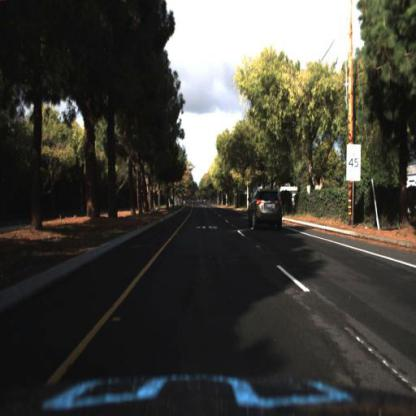car: (246, 190, 288, 235)
